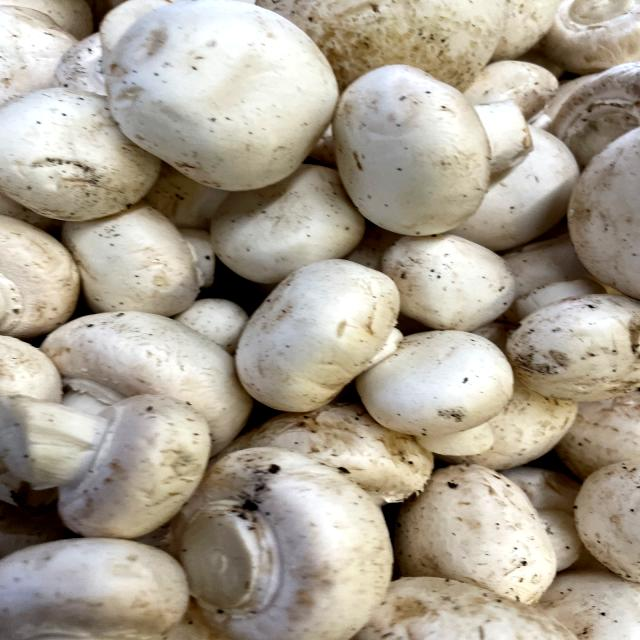mushroom: (167, 438, 408, 640), (328, 54, 543, 245), (3, 376, 228, 546), (211, 248, 424, 415)
